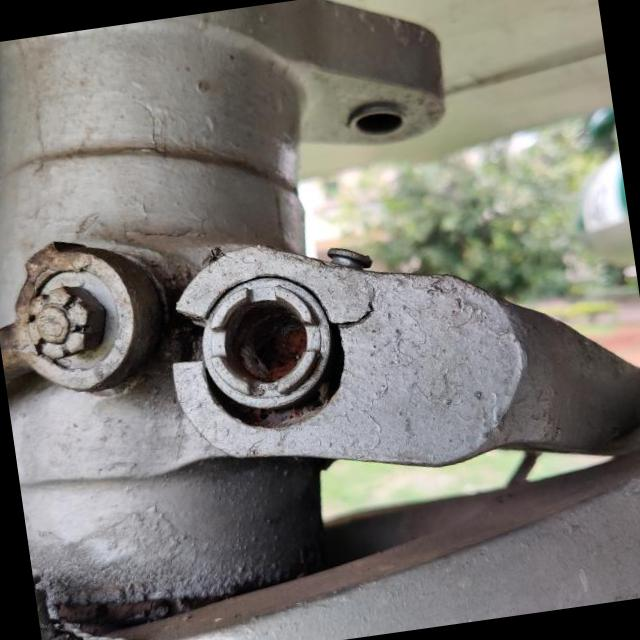Crack: (329, 294, 377, 333)
